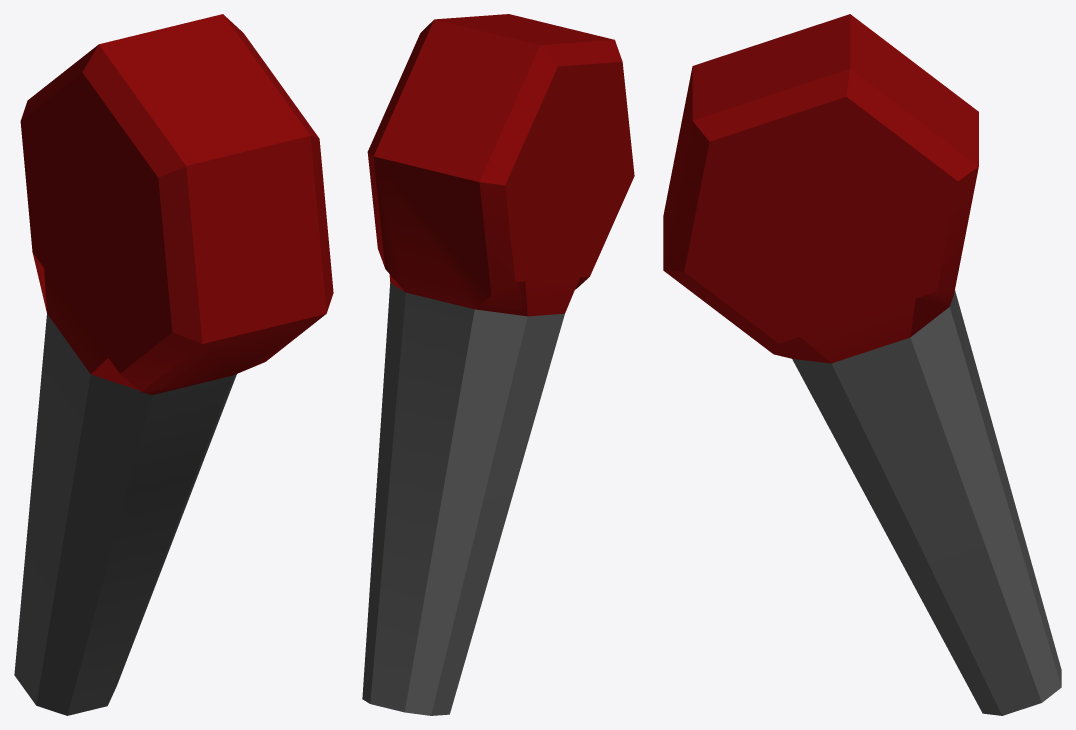
The model's file is MFD_GearSwitch.fbx.
The picture shows the model from 3 angles, left to right: view 1: azimuth 30°, elevation 25°; view 2: azimuth 150°, elevation 25°; view 3: azimuth 270°, elevation 25°; orthographic projection. The views are drawn at different scales.
Visible parts, largest first — view 1: MFD_GearSwitch; view 2: MFD_GearSwitch; view 3: MFD_GearSwitch.
Part boxes in pixels (bbox=[...]): MFD_GearSwitch: bbox=[14, 14, 333, 715]; MFD_GearSwitch: bbox=[362, 14, 634, 715]; MFD_GearSwitch: bbox=[663, 14, 1061, 715].
Bounding box in the file's own units: 1 × 4.36 × 2.37.
